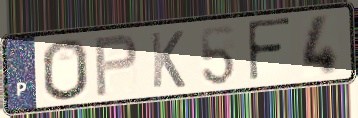4: (299, 13, 343, 78)
5: (198, 22, 238, 87)
F: (245, 16, 294, 85)
K: (148, 29, 188, 91)
O: (40, 37, 91, 103)
P: (92, 32, 140, 100)
